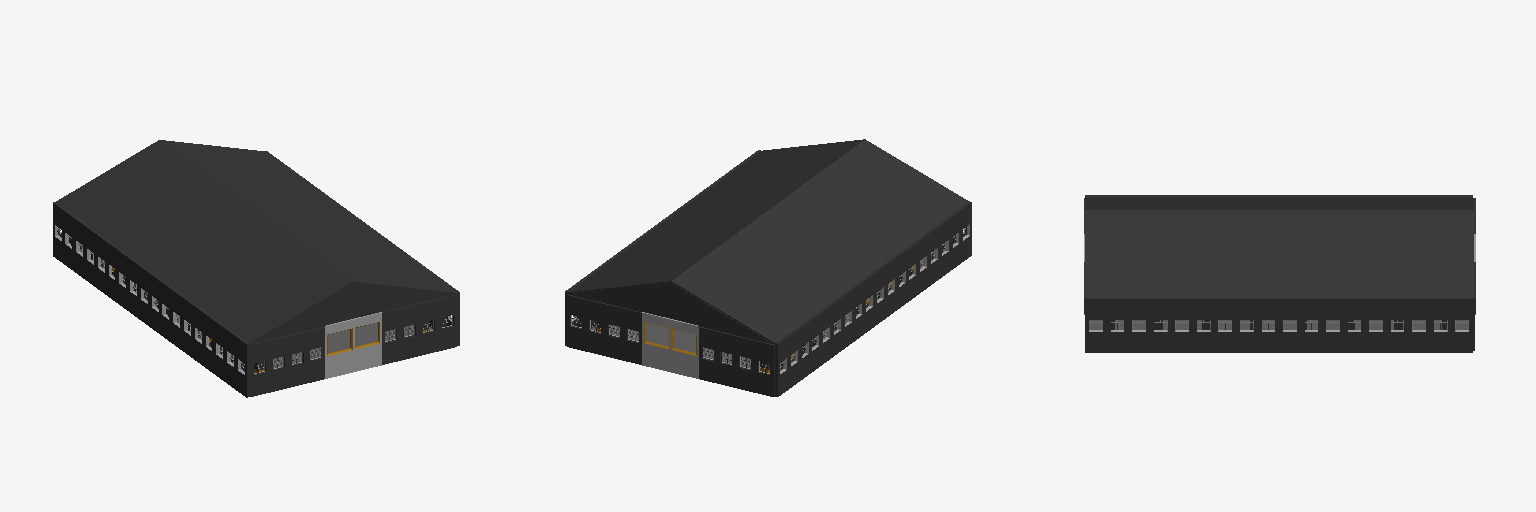
File: environment.obj
3 views of the same model, side by side, from view 1: azimuth 30°, elevation 25°; view 2: azimuth 150°, elevation 25°; view 3: azimuth 270°, elevation 25° (orthographic).
Parts seen in each view (by area): view 1: Plane.003, Plane.005, Plane.006, Plane.001, Plane; view 2: Plane.003, Plane.005, Plane.006, Plane.001, Plane; view 3: Plane.003, Plane.
Part boxes in pixels (x1,y1,x2,y2): Plane.003: (53, 140, 459, 397); Plane.005: (58, 227, 456, 396); Plane.006: (253, 284, 450, 343); Plane.001: (325, 312, 381, 378); Plane: (80, 249, 432, 368); Plane.003: (565, 139, 971, 396); Plane.005: (567, 227, 966, 396); Plane.006: (569, 283, 772, 343); Plane.001: (642, 312, 698, 378); Plane: (591, 249, 944, 368); Plane.003: (1085, 195, 1472, 352); Plane: (1089, 320, 1468, 329).
Size of the model in its own units: 36.75 by 14.98 by 58.35.